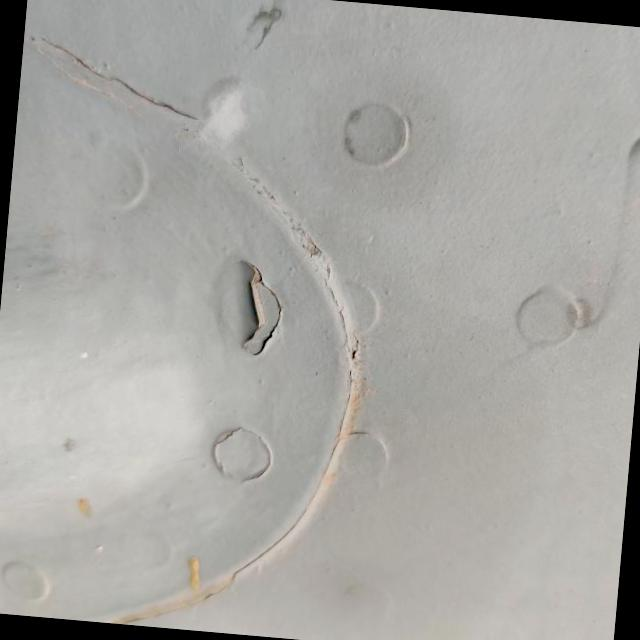paint-off: (210, 246, 306, 372)
